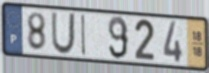2: (134, 18, 158, 62)
4: (162, 19, 185, 65)
8: (25, 11, 47, 52)
9: (107, 15, 130, 61)
I: (80, 13, 87, 58)
U: (51, 11, 77, 56)
